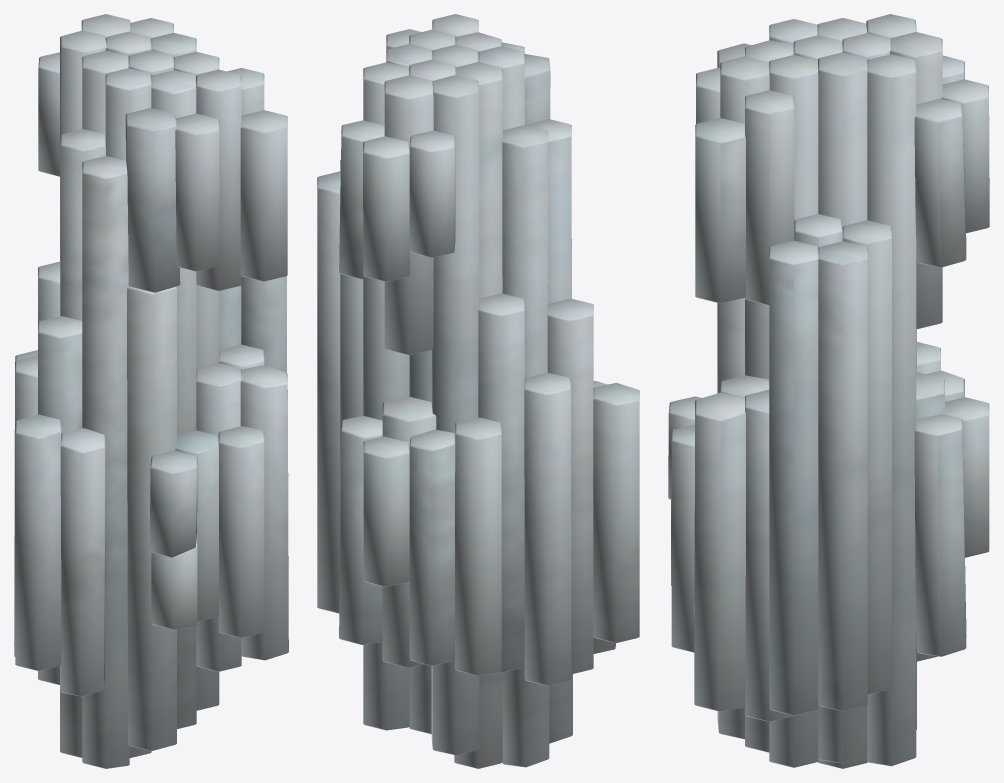
The model's file is P_RockHexic_Spire06.obj.
3 views of the same model, side by side, from view 1: azimuth 30°, elevation 25°; view 2: azimuth 150°, elevation 25°; view 3: azimuth 270°, elevation 25° (orthographic). The views are drawn at different scales.
Size of the model in its own units: 23.84 by 54.65 by 21.69.
